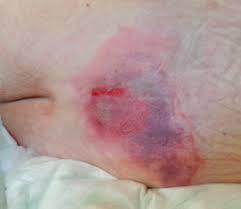Stage2: (85, 62, 186, 147)
